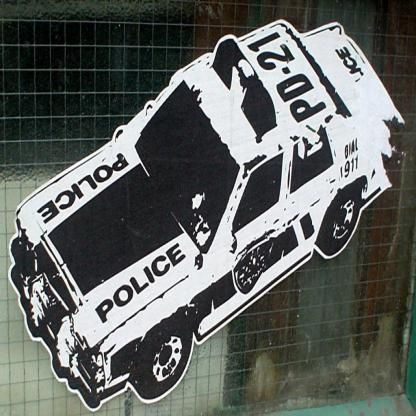Car: (9, 37, 396, 410)
